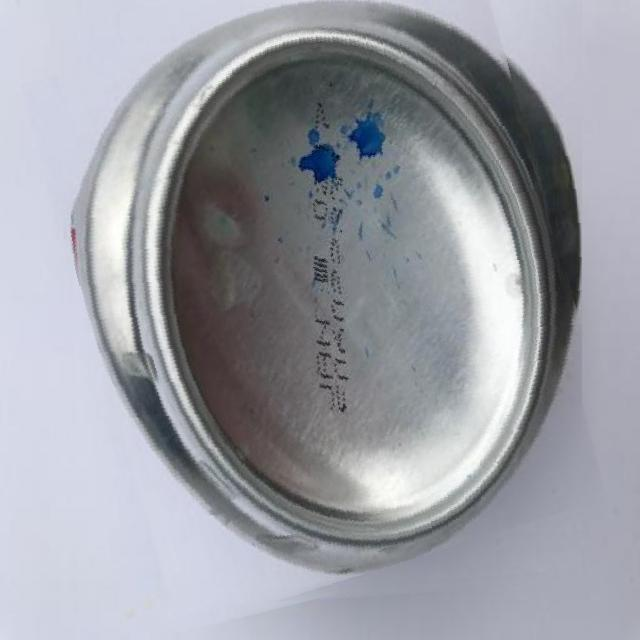recyclable: (52, 0, 582, 614)
